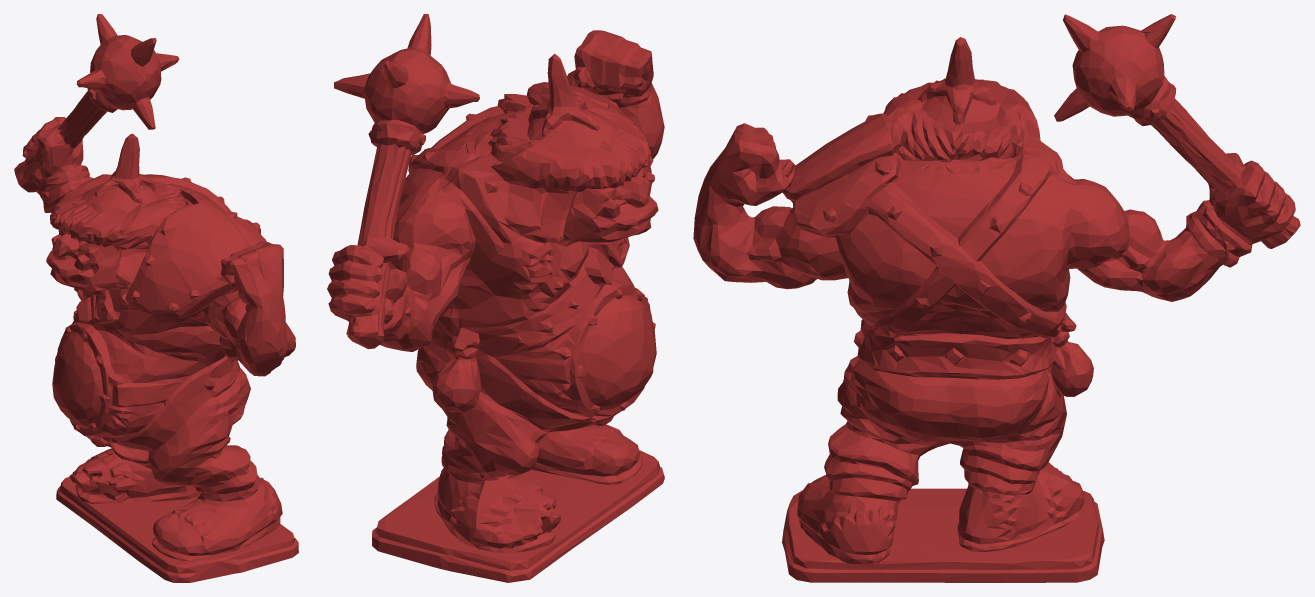
The model's file is ogre_champion.glb.
The picture shows the model from 3 angles, left to right: view 1: azimuth 30°, elevation 25°; view 2: azimuth 150°, elevation 25°; view 3: azimuth 270°, elevation 25°; orthographic projection. The views are drawn at different scales.
Visible parts, largest first — view 1: ogre_champion_chaos_army_original_size; view 2: ogre_champion_chaos_army_original_size; view 3: ogre_champion_chaos_army_original_size.
Boxes of the visible parts, x1,y1,x2,y2 form: ogre_champion_chaos_army_original_size: (14, 14, 298, 582); ogre_champion_chaos_army_original_size: (327, 14, 664, 582); ogre_champion_chaos_army_original_size: (693, 14, 1300, 582).
Size of the model in its own units: 18.84 by 39.6 by 40.05.
